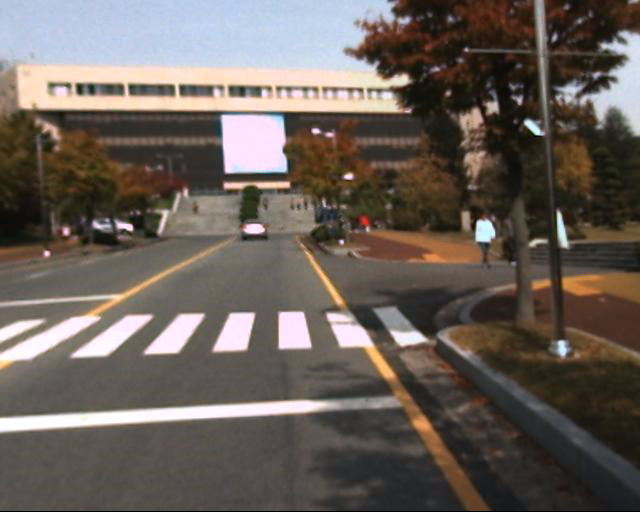person: (502, 208, 530, 273), (474, 208, 501, 269)
